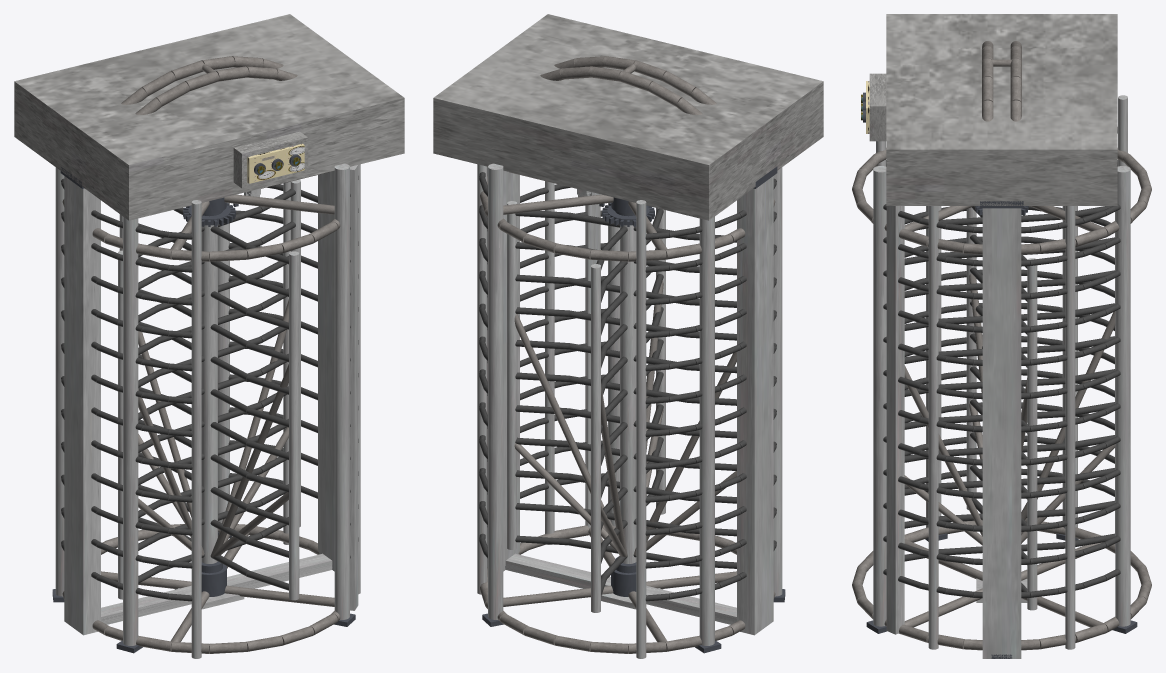
The model's file is pictureX_0611_full_height_turnstile__0708.glb.
The picture shows the model from 3 angles, left to right: view 1: azimuth 30°, elevation 25°; view 2: azimuth 150°, elevation 25°; view 3: azimuth 270°, elevation 25°; orthographic projection.
Visible parts, largest first — view 1: guard_frame::header_form__arched_header__housing_slab, guard_frame::header_form__arched_header__arch_post_0, guard_frame::guard_frame__curved_panel_cage__upright_0, guard_frame::guard_frame__curved_panel_cage__upright_8, guard_frame::header_form__arched_header__arch_post_1, guard_frame::guard_frame__curved_panel_cage__upright_9, rotor::rotor__spindle, guard_frame::guard_frame__access_strap, guard_frame::guard_frame__curved_panel_cage__upright_6, rotor::rotor_form__curved_bar_rotor__wing_stile_3, guard_frame::guard_frame__curved_panel_cage__floor_mount_rai, guard_frame::guard_frame__curved_panel_cage__upright_4 (+15 smaller); view 2: guard_frame::header_form__arched_header__housing_slab, guard_frame::header_form__arched_header__arch_post_0, guard_frame::guard_frame__curved_panel_cage__upright_4, guard_frame::guard_frame__curved_panel_cage__upright_6, guard_frame::guard_frame__curved_panel_cage__upright_5, rotor::rotor__spindle, guard_frame::guard_frame__curved_panel_cage__upright_8, rotor::rotor_form__curved_bar_rotor__wing_stile_1, rotor::rotor_form__curved_bar_rotor__wing_stile_0, guard_frame::guard_frame__curved_panel_cage__upright_3, guard_frame::header_form__arched_header__arch_post_1, guard_frame::guard_frame__curved_panel_cage__floor_mount_rai (+12 smaller); view 3: guard_frame::header_form__arched_header__housing_slab, guard_frame::header_form__arched_header__arch_post_1, guard_frame::guard_frame__access_strap, guard_frame::guard_frame__curved_panel_cage__upright_4, guard_frame::guard_frame__curved_panel_cage__upright_0, guard_frame::guard_frame__curved_panel_cage__upright_1, guard_frame::guard_frame__curved_panel_cage__upright_3, rotor::rotor_form__curved_bar_rotor__wing_stile_0, rotor::rotor_form__curved_bar_rotor__wing_stile_2, guard_frame::guard_frame__curved_panel_cage__upright_8, guard_frame::access_control__header_indicator_panel__control, guard_frame::guard_frame__curved_panel_cage__upright_6 (+9 smaller).
Boxes of the visible parts, bbox=[...] form: guard_frame::header_form__arched_header__housing_slab: bbox=[14, 14, 404, 220]; guard_frame::header_form__arched_header__arch_post_0: bbox=[64, 176, 100, 635]; guard_frame::guard_frame__curved_panel_cage__upright_0: bbox=[334, 163, 349, 619]; guard_frame::guard_frame__curved_panel_cage__upright_8: bbox=[123, 216, 138, 645]; guard_frame::header_form__arched_header__arch_post_1: bbox=[318, 170, 334, 571]; guard_frame::guard_frame__curved_panel_cage__upright_9: bbox=[191, 200, 201, 658]; rotor::rotor__spindle: bbox=[201, 225, 217, 563]; guard_frame::guard_frame__access_strap: bbox=[350, 165, 358, 610]; guard_frame::guard_frame__curved_panel_cage__upright_6: bbox=[55, 167, 64, 596]; rotor::rotor_form__curved_bar_rotor__wing_stile_3: bbox=[289, 251, 299, 600]; guard_frame::guard_frame__curved_panel_cage__floor_mount_rai: bbox=[101, 553, 332, 624]; guard_frame::guard_frame__curved_panel_cage__upright_4: bbox=[218, 203, 229, 522]; guard_frame::header_form__arched_header__housing_slab: bbox=[433, 14, 823, 220]; guard_frame::header_form__arched_header__arch_post_0: bbox=[737, 176, 773, 635]; guard_frame::guard_frame__curved_panel_cage__upright_4: bbox=[488, 163, 503, 619]; guard_frame::guard_frame__curved_panel_cage__upright_6: bbox=[699, 216, 714, 645]; guard_frame::guard_frame__curved_panel_cage__upright_5: bbox=[636, 200, 646, 658]; rotor::rotor__spindle: bbox=[620, 225, 636, 563]; guard_frame::guard_frame__curved_panel_cage__upright_8: bbox=[773, 167, 782, 596]; rotor::rotor_form__curved_bar_rotor__wing_stile_1: bbox=[591, 264, 600, 612]; rotor::rotor_form__curved_bar_rotor__wing_stile_0: bbox=[507, 201, 516, 549]; guard_frame::guard_frame__curved_panel_cage__upright_3: bbox=[477, 164, 487, 594]; guard_frame::header_form__arched_header__arch_post_1: bbox=[487, 166, 519, 571]; guard_frame::guard_frame__curved_panel_cage__floor_mount_rai: bbox=[505, 553, 736, 624]; guard_frame::header_form__arched_header__housing_slab: bbox=[886, 14, 1117, 205]; guard_frame::header_form__arched_header__arch_post_1: bbox=[982, 208, 1021, 658]; guard_frame::guard_frame__access_strap: bbox=[886, 206, 904, 634]; guard_frame::guard_frame__curved_panel_cage__upright_4: bbox=[1115, 166, 1130, 626]; guard_frame::guard_frame__curved_panel_cage__upright_0: bbox=[873, 166, 886, 626]; guard_frame::guard_frame__curved_panel_cage__upright_1: bbox=[928, 206, 938, 649]; guard_frame::guard_frame__curved_panel_cage__upright_3: bbox=[1065, 206, 1075, 649]; rotor::rotor_form__curved_bar_rotor__wing_stile_0: bbox=[1027, 258, 1037, 610]; rotor::rotor_form__curved_bar_rotor__wing_stile_2: bbox=[966, 207, 976, 509]; guard_frame::guard_frame__curved_panel_cage__upright_8: bbox=[926, 206, 941, 528]; guard_frame::access_control__header_indicator_panel__control: bbox=[869, 73, 886, 141]; guard_frame::guard_frame__curved_panel_cage__upright_6: bbox=[1062, 206, 1077, 528].
Bounding box in the file's own units: 1.25 × 2.29 × 1.16.
7 materials, 7 textured.
